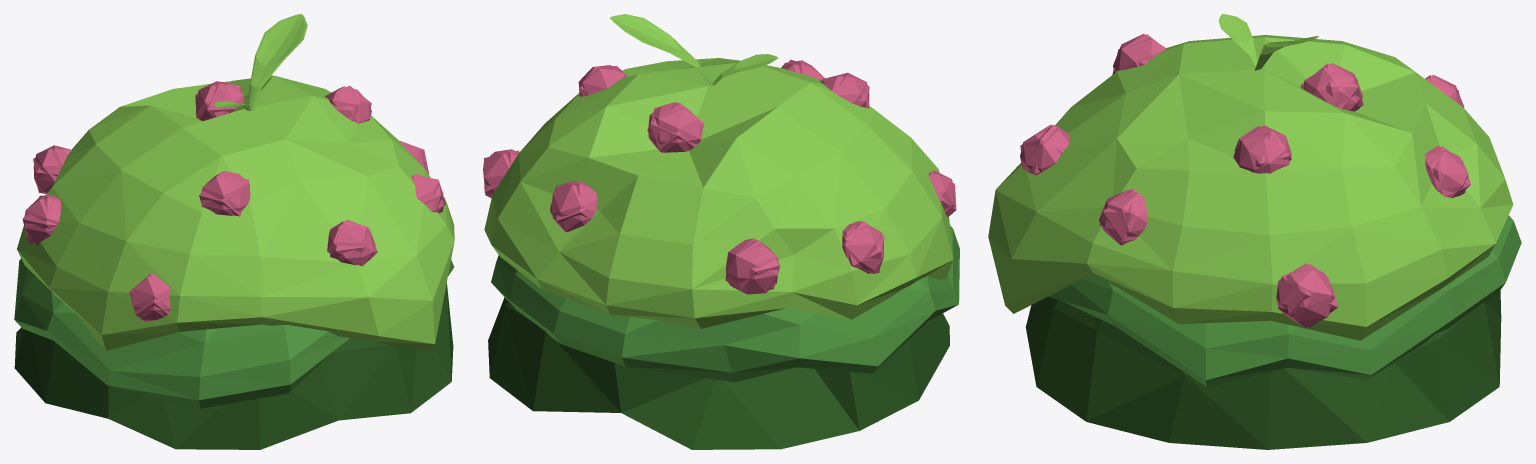
Rendered from bush_big_pink.fbx.
3 renders of one model, left to right at view 1: azimuth 30°, elevation 25°; view 2: azimuth 150°, elevation 25°; view 3: azimuth 270°, elevation 25°, orthographic. The views are drawn at different scales.
Visible parts, largest first — view 1: bush_big_pink_LOD0, fruits, fruits.002; view 2: bush_big_pink_LOD0, fruits, fruits.002; view 3: bush_big_pink_LOD0, fruits, fruits.002.
Part boxes in pixels (left/top/right/bottom): bush_big_pink_LOD0: left=14, top=14, right=454, bottom=449; fruits: left=24, top=81, right=443, bottom=321; fruits.002: left=22, top=83, right=445, bottom=317; bush_big_pink_LOD0: left=484, top=14, right=959, bottom=449; fruits: left=483, top=60, right=954, bottom=294; fruits.002: left=484, top=59, right=956, bottom=290; bush_big_pink_LOD0: left=988, top=14, right=1521, bottom=449; fruits: left=1020, top=33, right=1468, bottom=327; fruits.002: left=1020, top=34, right=1470, bottom=327.
Size of what is drawn, in the model's own units: 270 by 197 by 271.
